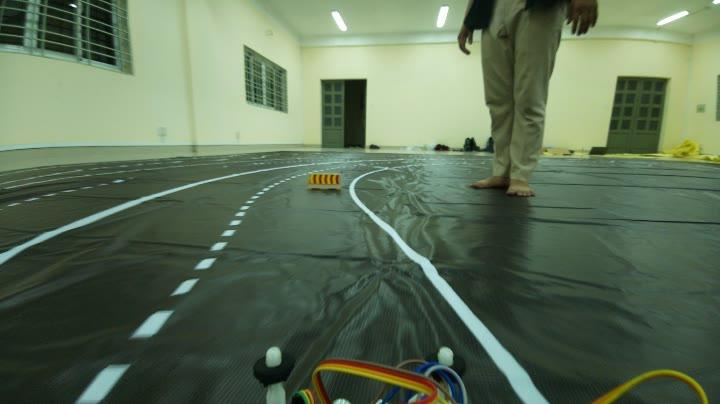roadblock: (304, 168, 344, 193)
